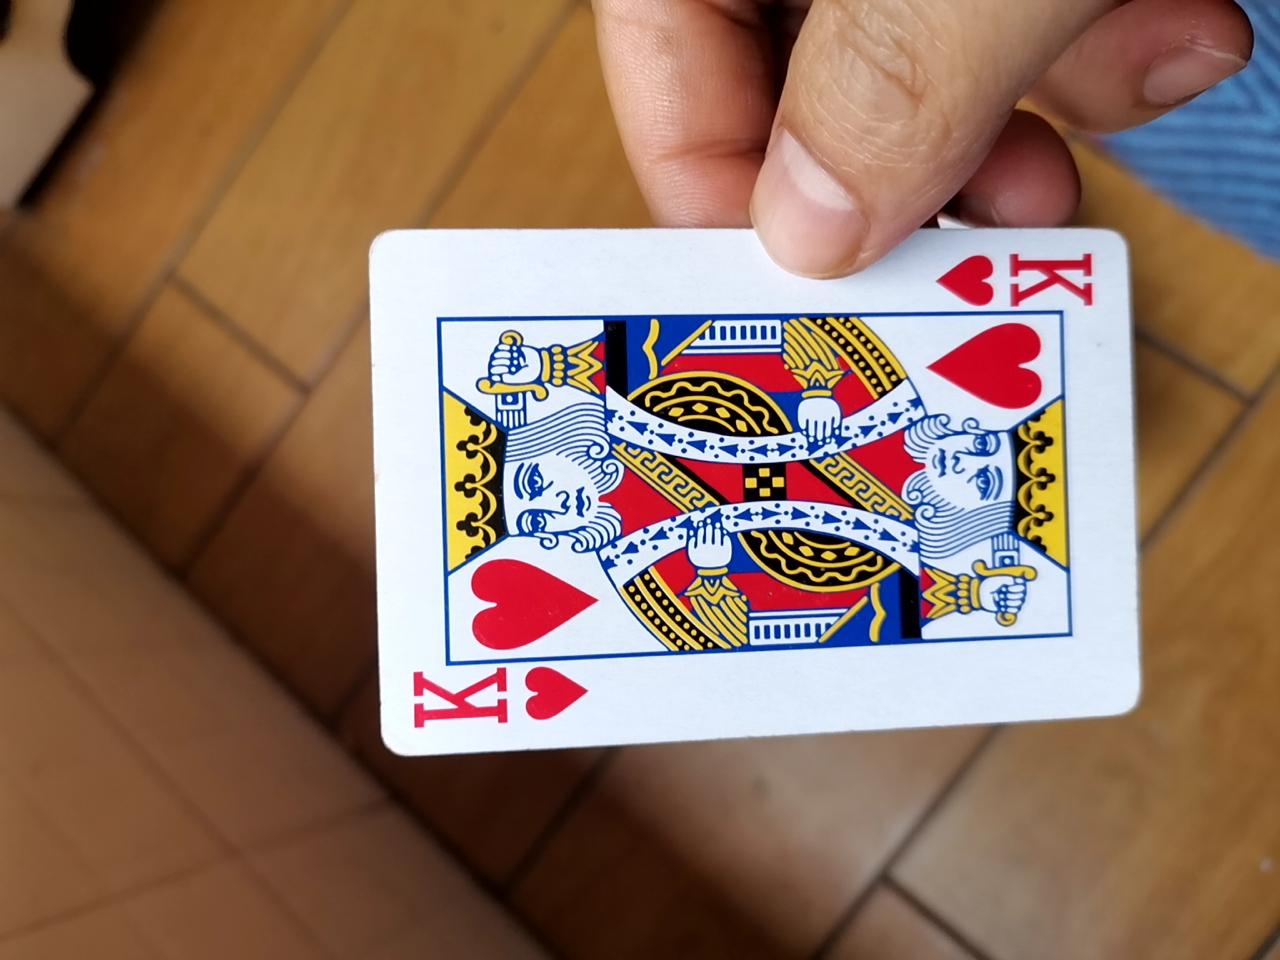hx k: (354, 227, 1135, 758)
